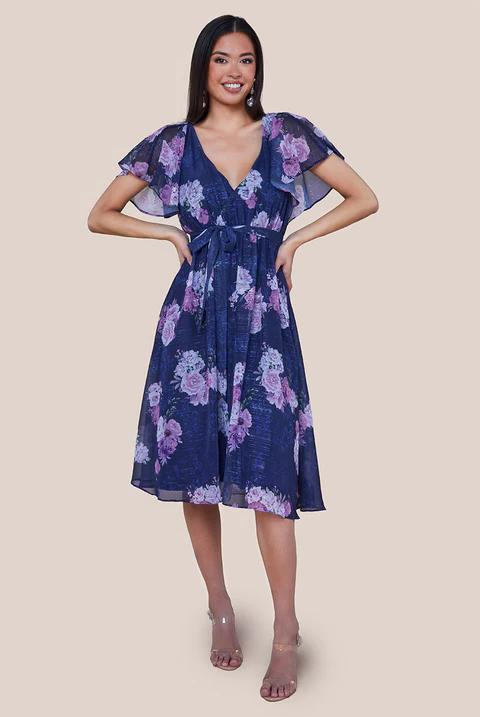dress: (114, 108, 347, 521)
